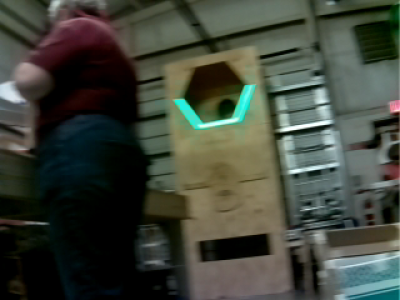target: (172, 83, 256, 129)
